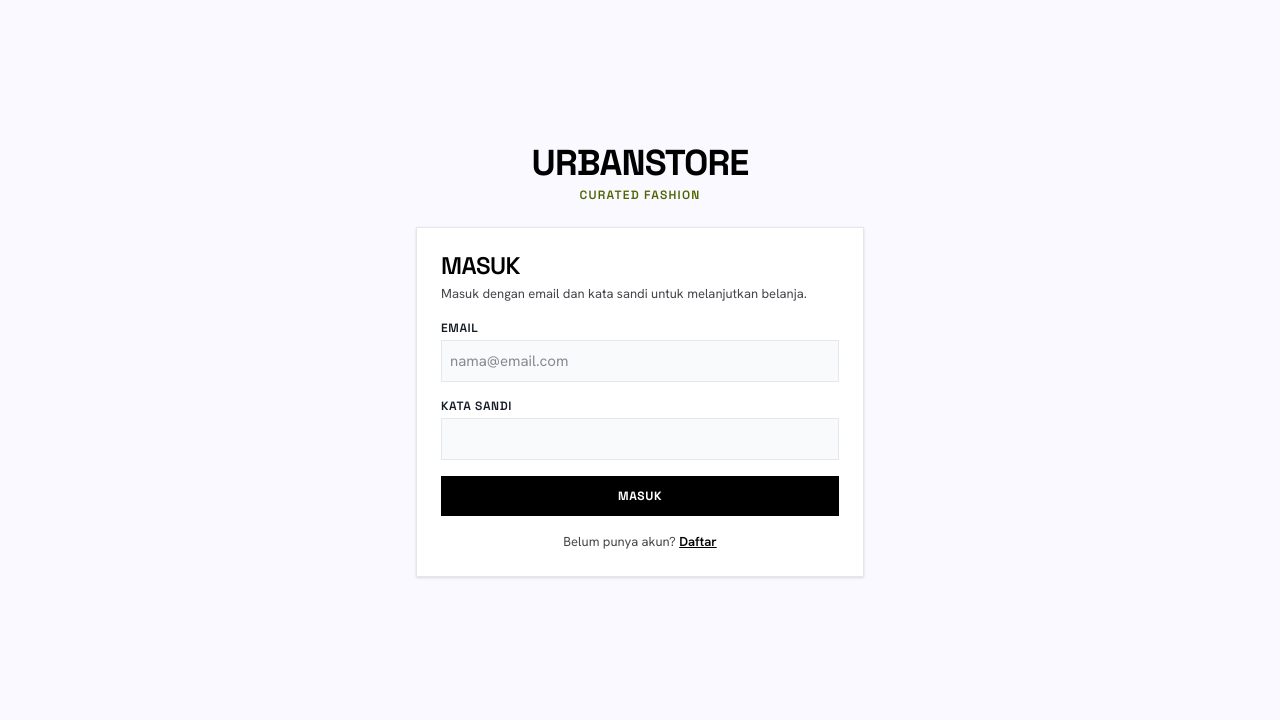
Test: masuk › admin masuk dan langsung diarahkan ke panel admin
The image size is (1280, 720).
Type "admin@example.com" into the field labelled "Email". click: (640, 361)
box: [441,340,839,382]
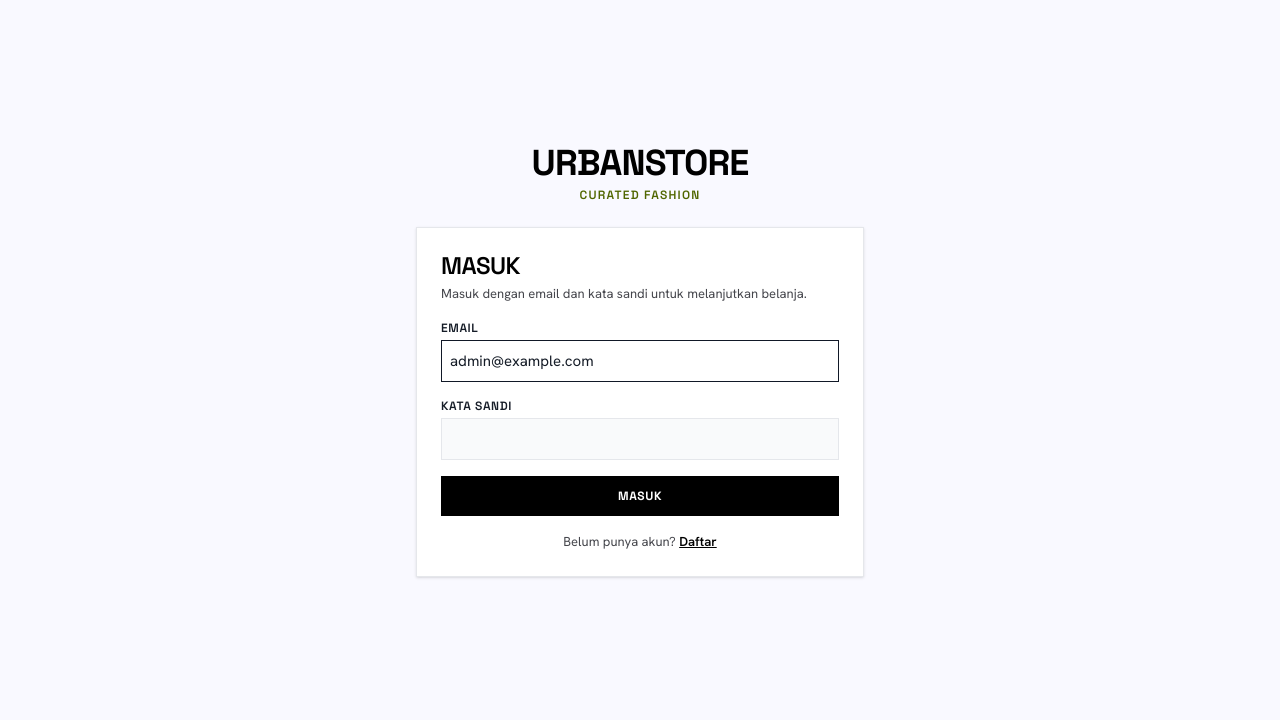
Type "adminpass123" into the password field labelled "Kata Sandi". click: (640, 439)
box: [441,418,839,460]
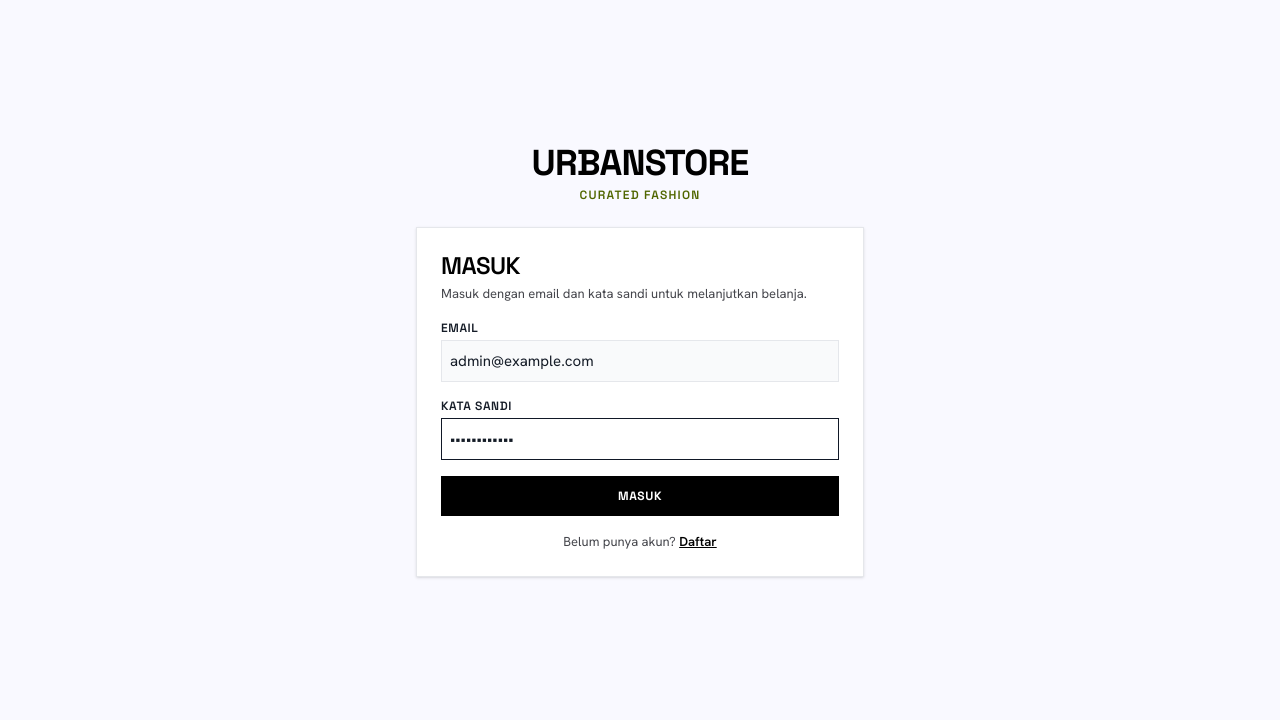
Click the button "Masuk". click: click(640, 496)
box: [441,476,839,516]
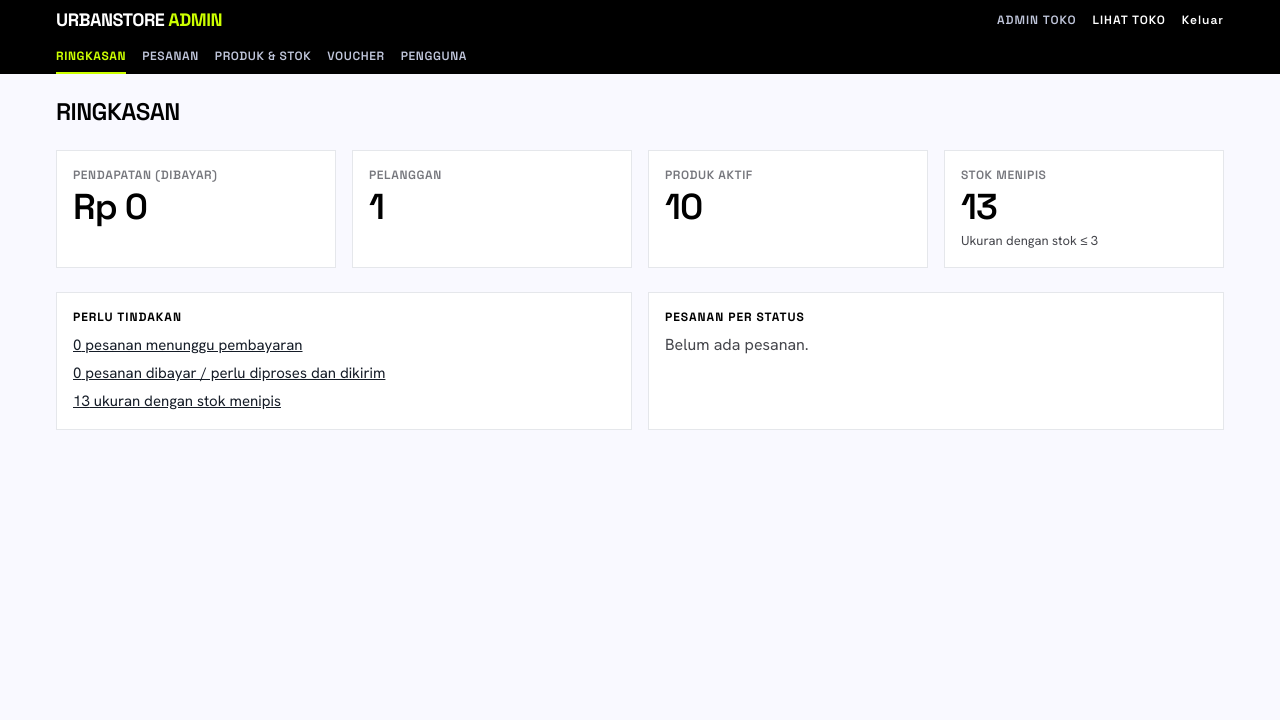
Result: the heading "Ringkasan" is shown at [56,96,180,127]
